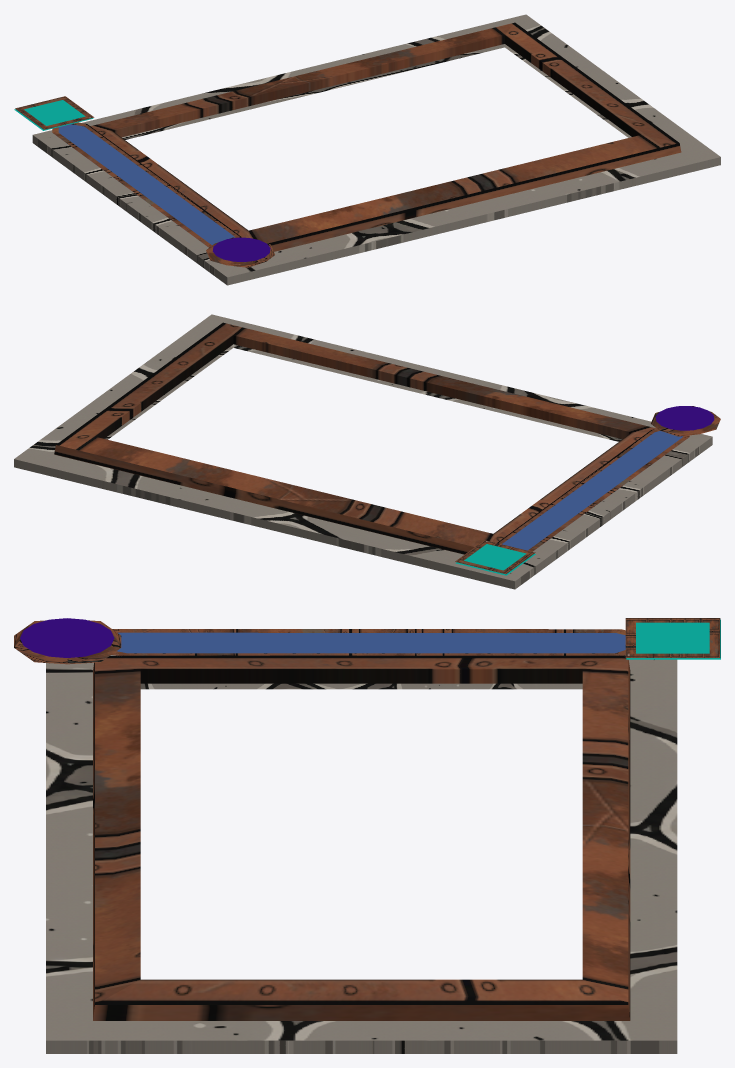
Rendered from Card.fbx.
The picture shows the model from 3 angles, top to bottom: view 1: azimuth 30°, elevation 25°; view 2: azimuth 150°, elevation 25°; view 3: azimuth 270°, elevation 25°; orthographic projection. The views are drawn at different scales.
Parts seen in each view (by area): view 1: IronFrame, StoneFrame, NameBG, IronNameFrame, CostBG, AttributeBG, AttributeFrame, CostFrame; view 2: IronFrame, StoneFrame, NameBG, IronNameFrame, CostBG, AttributeBG, AttributeFrame, CostFrame; view 3: IronFrame, StoneFrame, NameBG, IronNameFrame, CostBG, AttributeBG, AttributeFrame, CostFrame.
Part boxes in pixels (x1,y1,x2,y2): IronFrame: [90, 22, 681, 251]; StoneFrame: [32, 14, 720, 285]; NameBG: [58, 124, 235, 245]; IronNameFrame: [52, 122, 241, 247]; CostBG: [212, 237, 270, 261]; AttributeBG: [14, 100, 93, 130]; AttributeFrame: [15, 96, 94, 129]; CostFrame: [206, 237, 274, 267]; IronFrame: [54, 322, 656, 554]; StoneFrame: [14, 314, 712, 589]; NameBG: [502, 431, 683, 550]; IronNameFrame: [497, 428, 689, 551]; CostBG: [655, 406, 714, 430]; AttributeBG: [455, 544, 535, 575]; AttributeFrame: [455, 540, 535, 574]; CostFrame: [650, 406, 720, 436]; IronFrame: [93, 656, 630, 1020]; StoneFrame: [46, 655, 677, 1053]; NameBG: [112, 632, 625, 655]; IronNameFrame: [111, 629, 625, 656]; CostBG: [20, 618, 114, 657]; AttributeBG: [626, 619, 720, 659]; AttributeFrame: [625, 618, 720, 657]; CostFrame: [14, 620, 121, 664].
Bounding box in the file's own units: 299 × 14.66 × 224.
